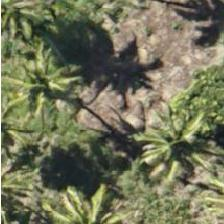Kelapa_Sawit: (0, 25, 88, 115), (137, 91, 224, 181), (177, 145, 224, 224)
